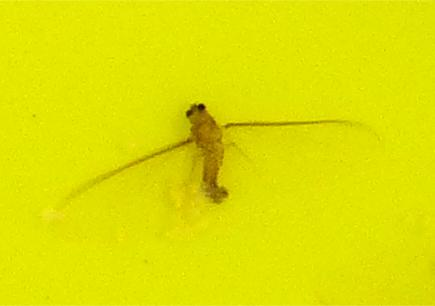Ephemeroptera: (100, 100, 335, 206)
